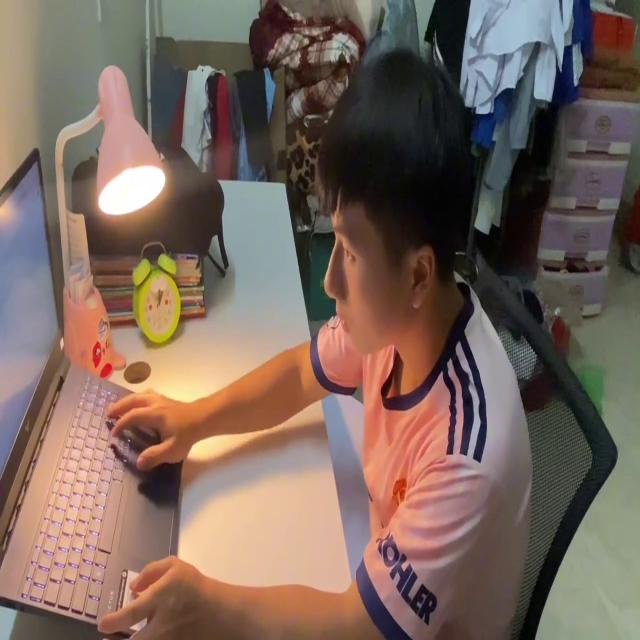book: (324, 385, 374, 577)
laptop: (0, 146, 187, 640)
student: (100, 49, 534, 640)
